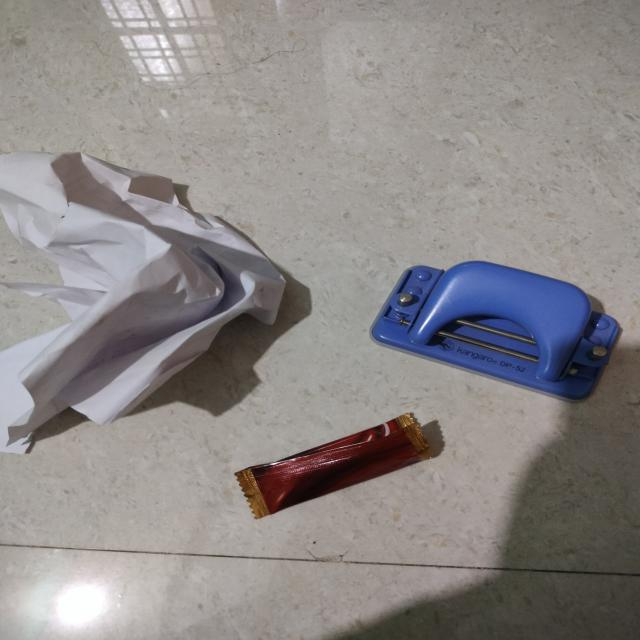dry: (0, 152, 286, 449), (371, 263, 618, 404), (235, 411, 432, 521)
